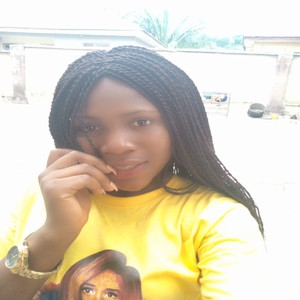Fulokoja_female_student: (66, 63, 190, 300)
